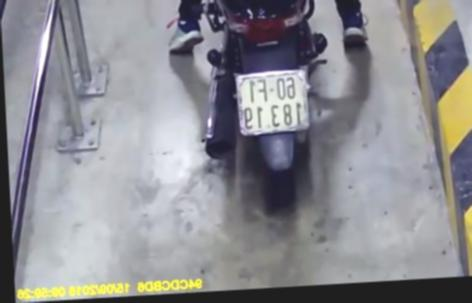License_Plate: (228, 62, 315, 142)
